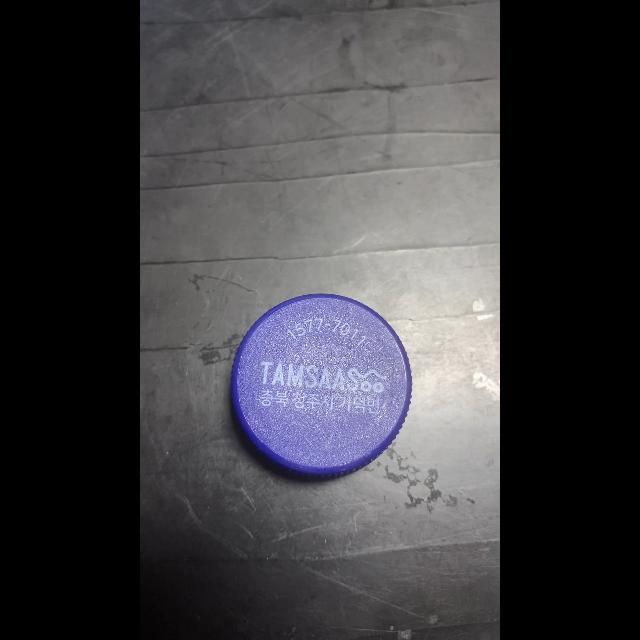plastic_bottle_cap: (228, 290, 414, 480)
